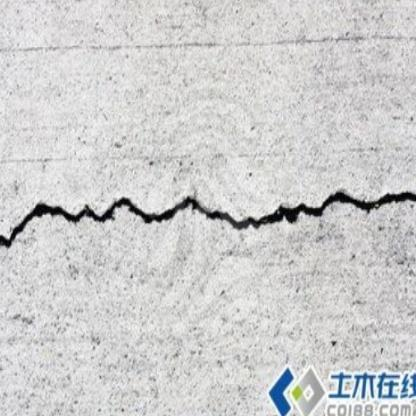Cracks: (0, 187, 416, 258)
